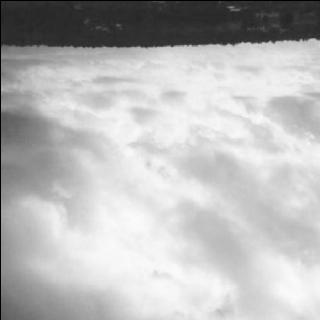Stratocumulus: (0, 49, 320, 320)
